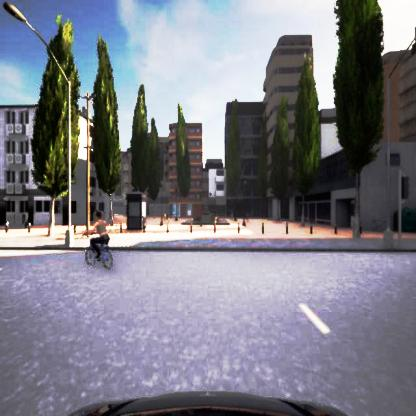bike: (86, 212, 114, 270)
